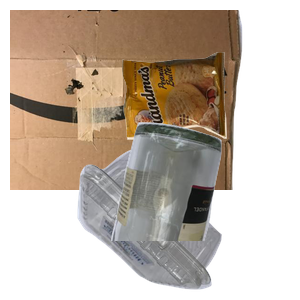cardboard: (10, 10, 245, 190)
glass: (109, 120, 300, 300)
plastic: (75, 147, 289, 300)
trash: (120, 50, 300, 182)
